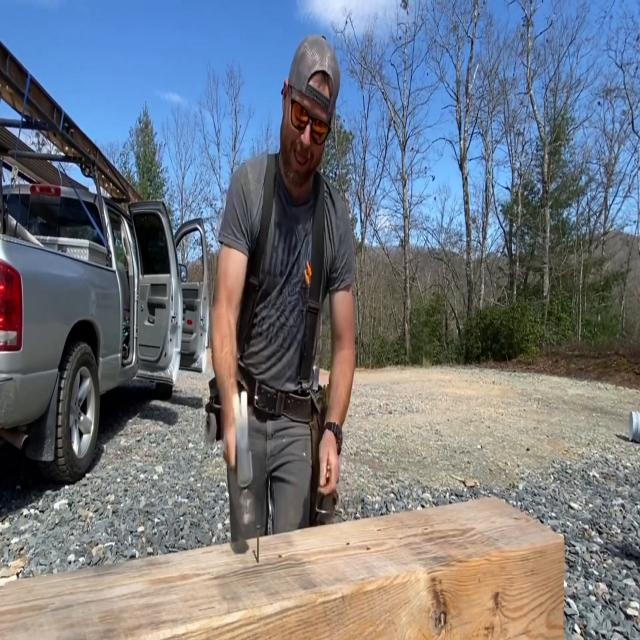hammer: (227, 390, 259, 534)
